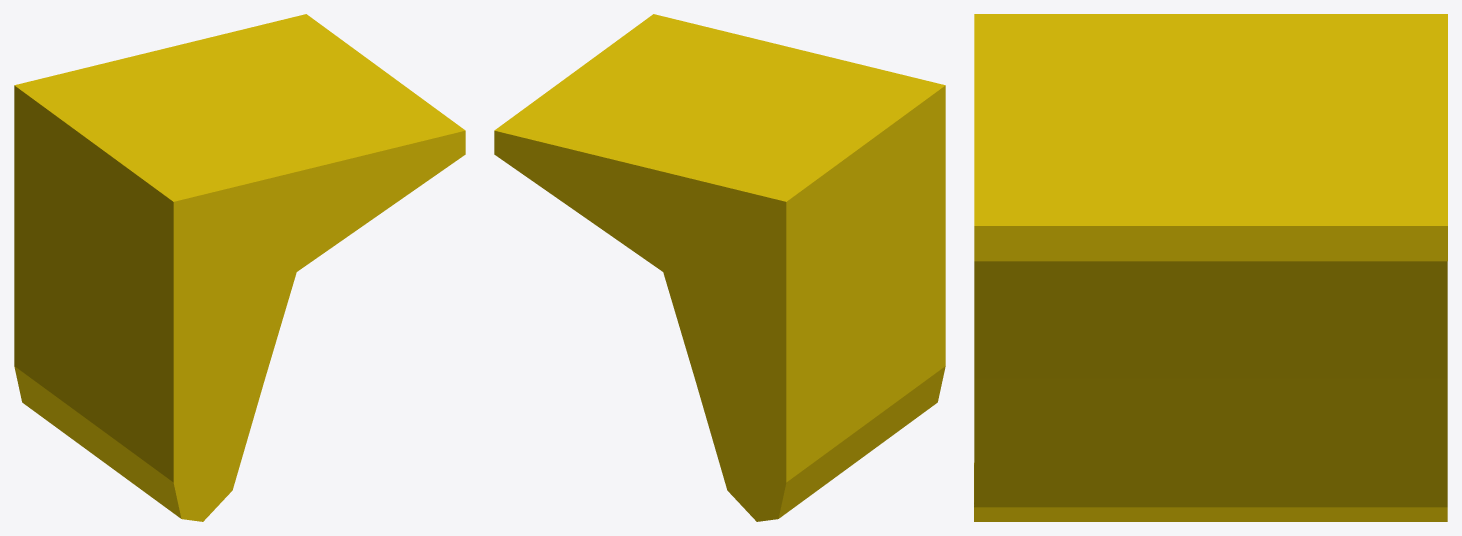
File: Gatilho.fbx
3 views of the same model, side by side, from view 1: azimuth 30°, elevation 25°; view 2: azimuth 150°, elevation 25°; view 3: azimuth 270°, elevation 25° (orthographic). The views are drawn at different scales.
Parts seen in each view (by area): view 1: Gatilho1; view 2: Gatilho1; view 3: Gatilho1.
Boxes of the visible parts, left/top/right/bottom form: Gatilho1: left=14, top=14, right=465, bottom=521; Gatilho1: left=494, top=14, right=945, bottom=521; Gatilho1: left=974, top=14, right=1447, bottom=521.
Size of the model in its own units: 11.58 by 12.39 by 10.93.
